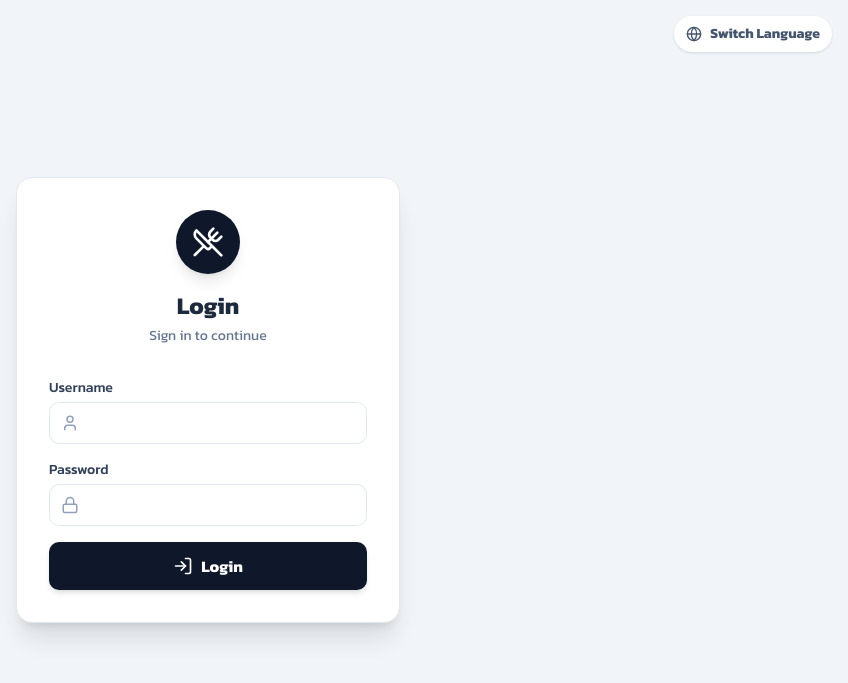
LoginForm › Login Failure - Error Handling › should display fallback error when no message provided
Type "user" into the field labelled "Username" at (208, 423), box [49, 402, 367, 444]
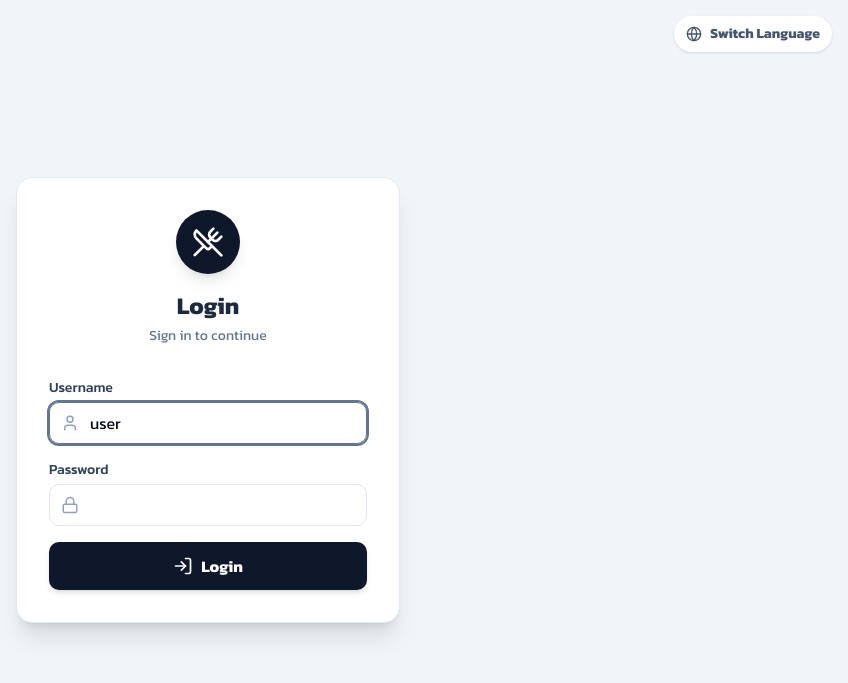
Type "pass" into the password field labelled "Password" at (208, 505), box [49, 484, 367, 526]
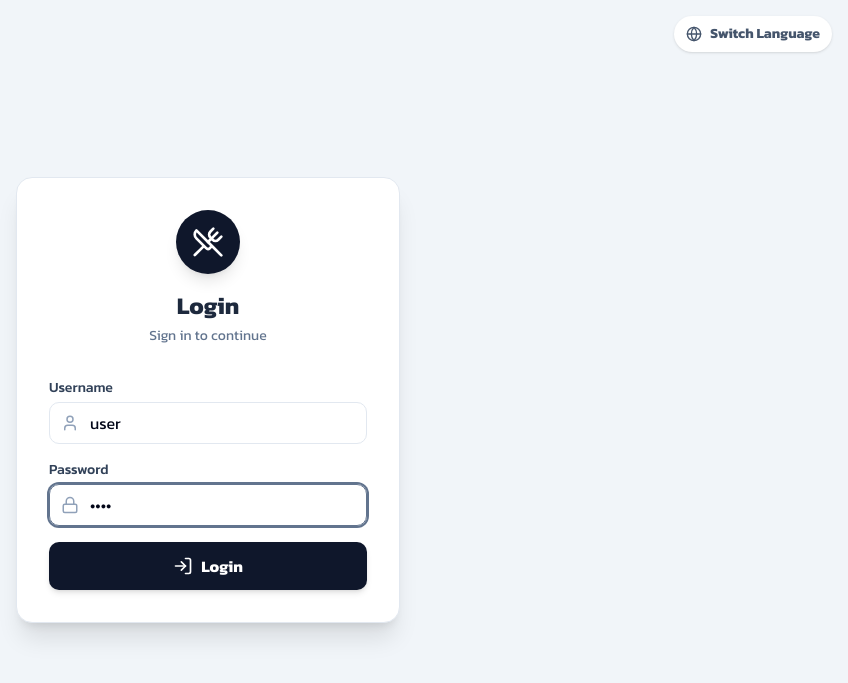
Click the button "Login" at (208, 566), box [49, 542, 367, 590]
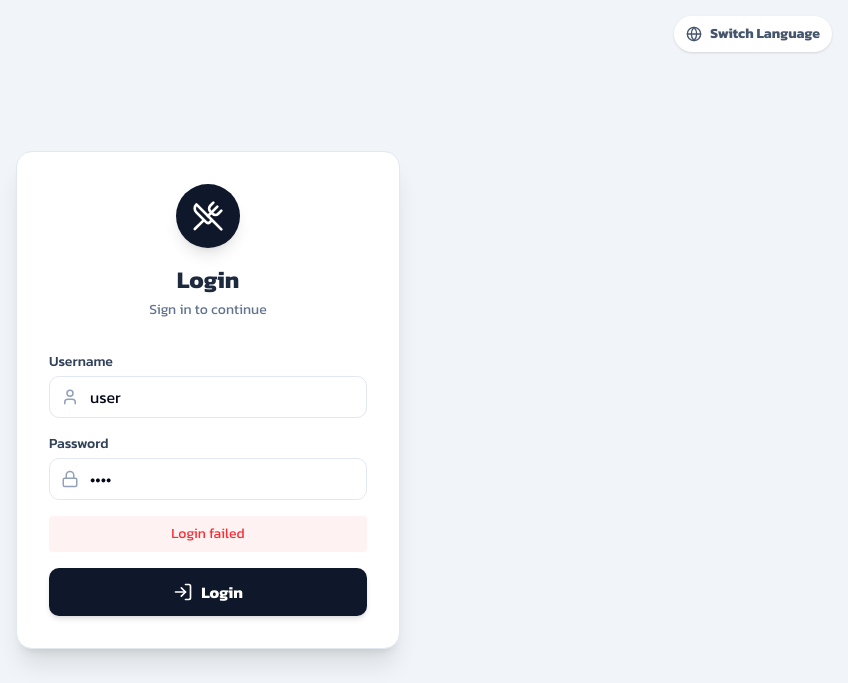
Result: the text "Login failed" is shown at [49, 516, 367, 552]
